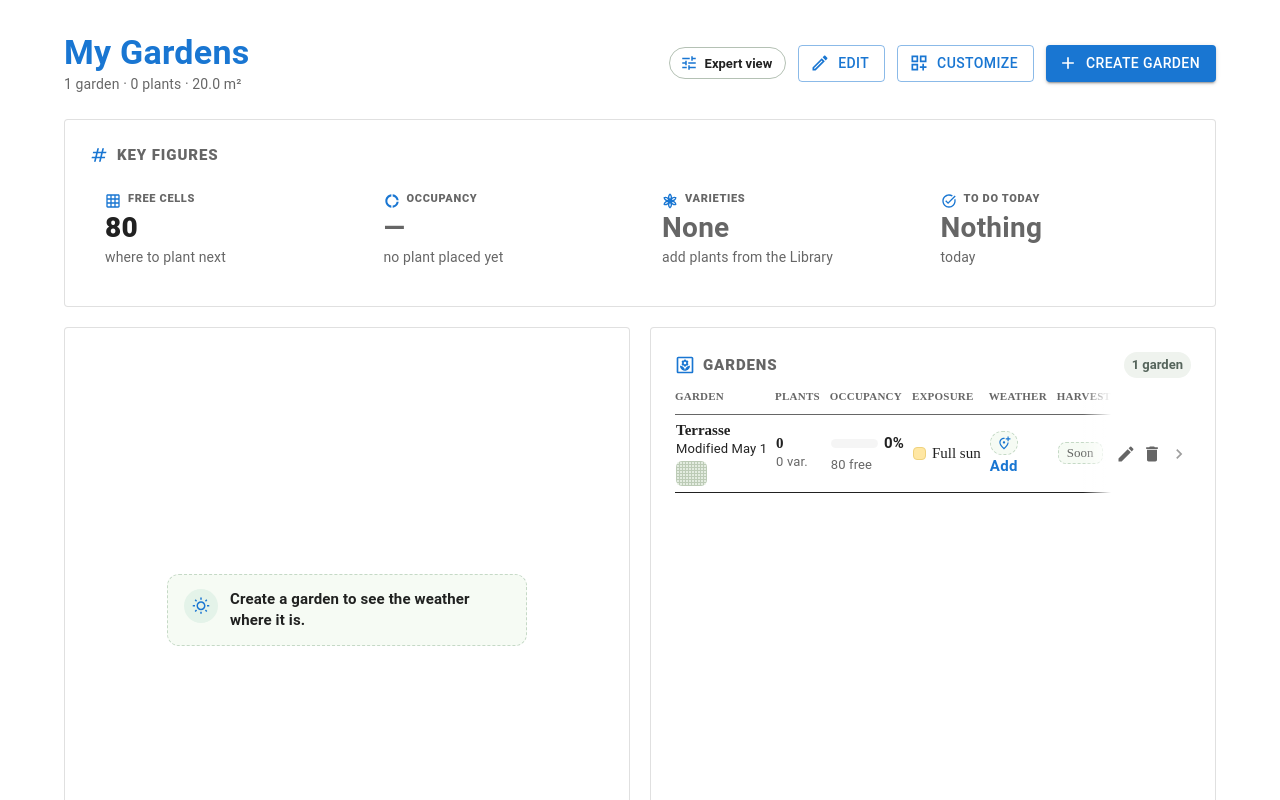
Test: the band’s gear — four emplacements, « Toujours quatre » › ▼ moves a figure down a place, says the new place, keeps the focus — and writes the order
Click the button "Edit" at [842, 63], box left=798, top=45, right=885, bottom=82
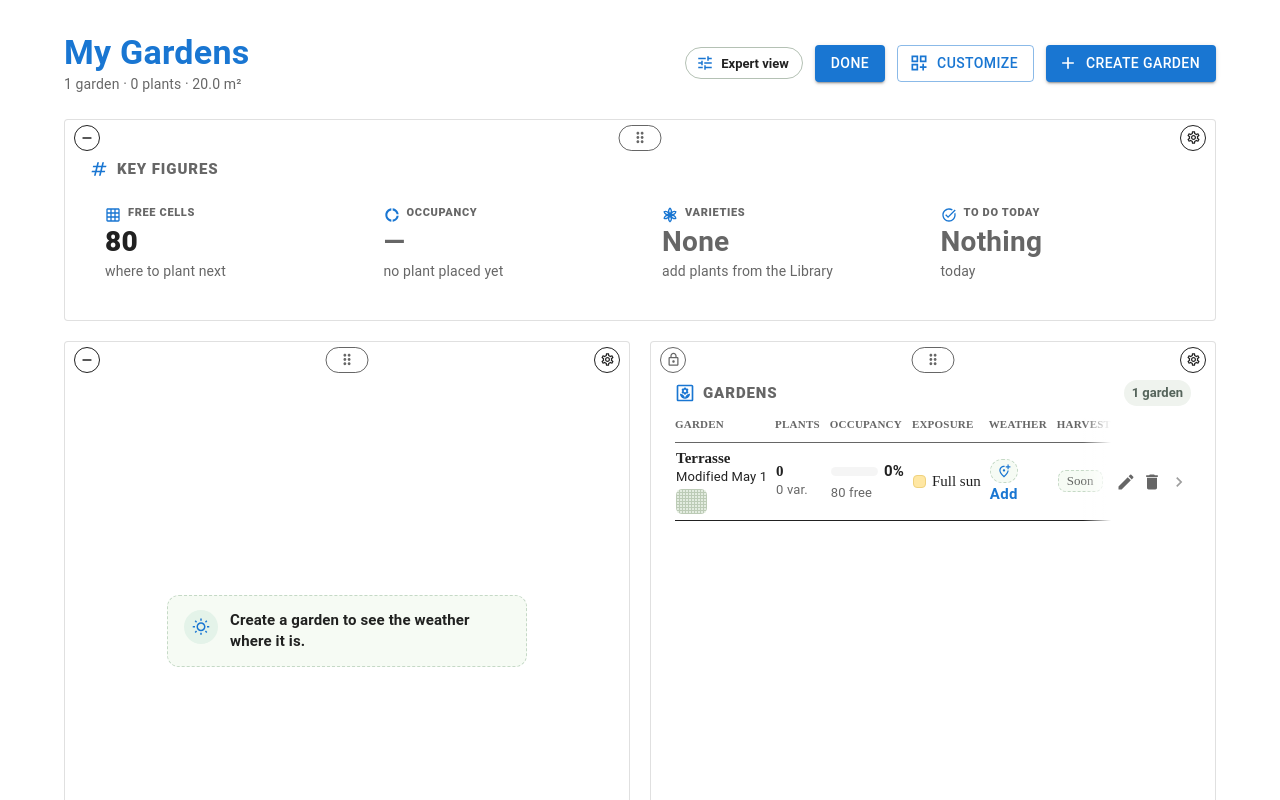
Click the button named "Key figures options" at [1193, 138], box left=1180, top=125, right=1206, bottom=151
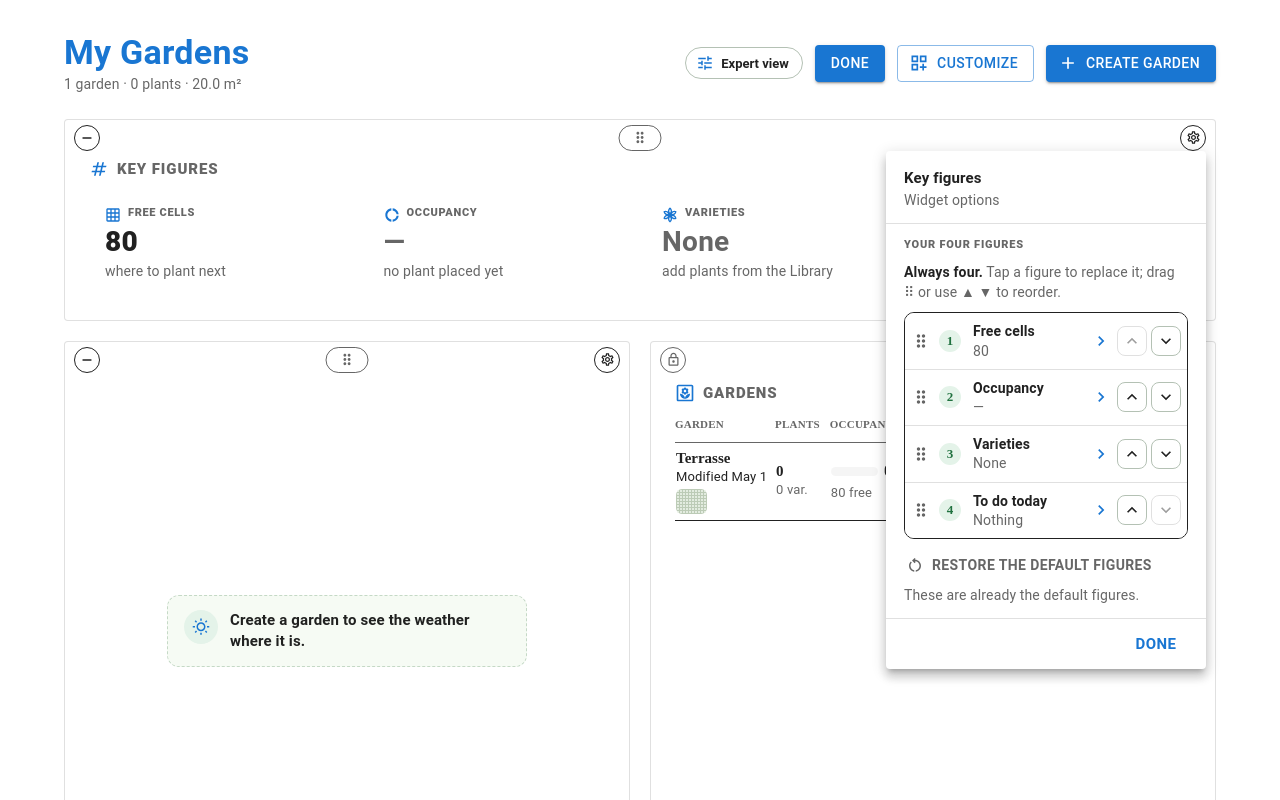
Now the text "80" is shown, box left=973, top=343, right=989, bottom=359
Click the button named "Move “Free cells” down" at [1166, 341], box left=1151, top=326, right=1181, bottom=356
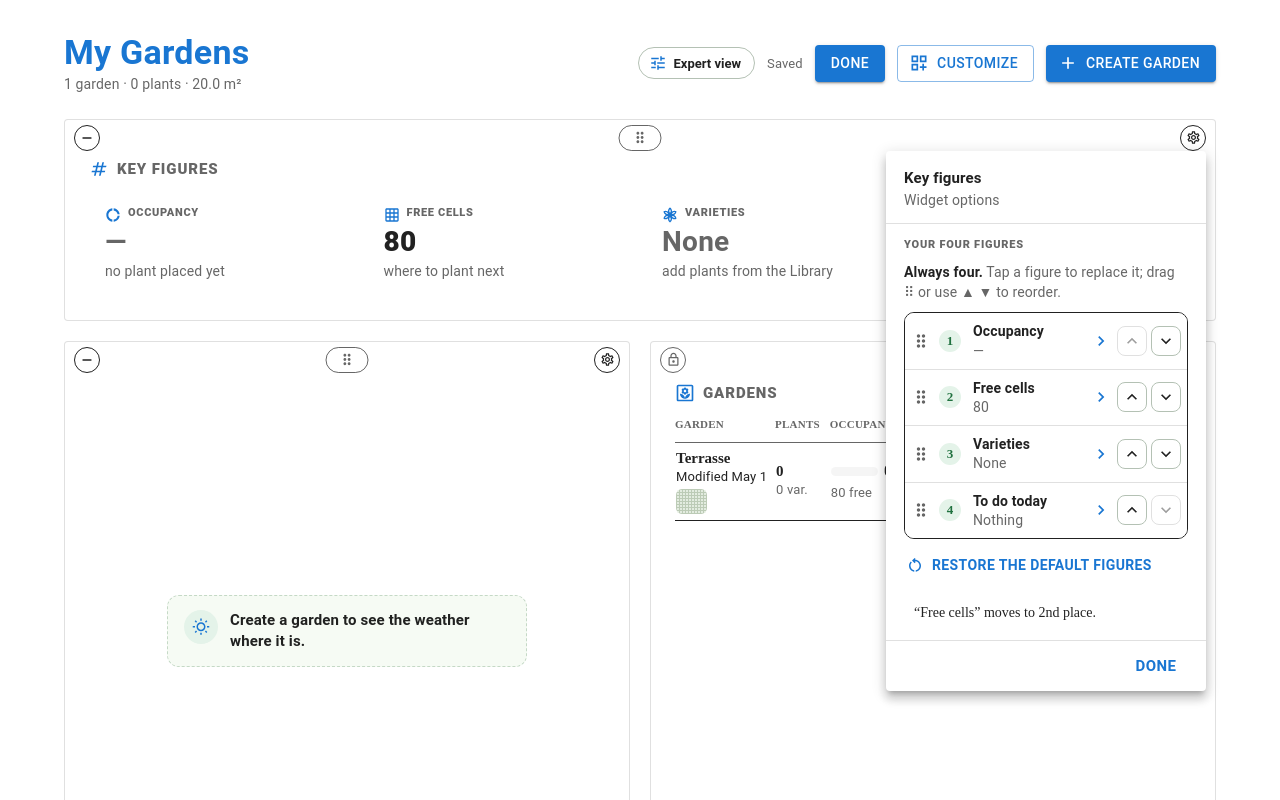
Now the message "“Free cells” moves to 2nd place." is shown, box left=914, top=605, right=1096, bottom=620
